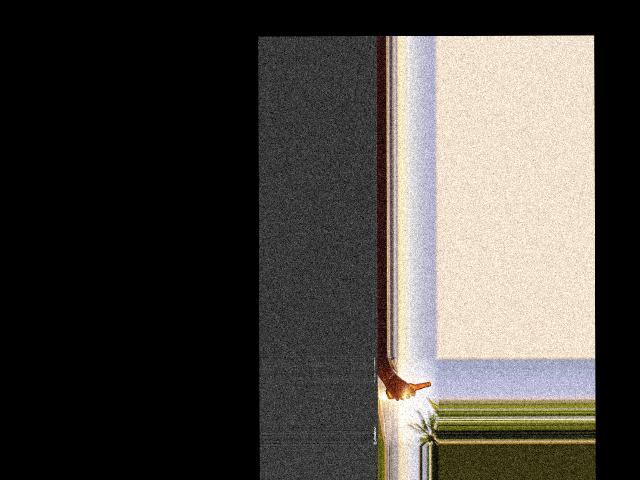beer: (385, 381, 430, 398)
